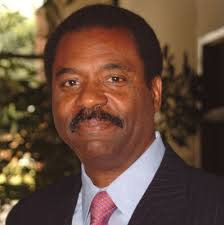black_male: (50, 32, 146, 162)
